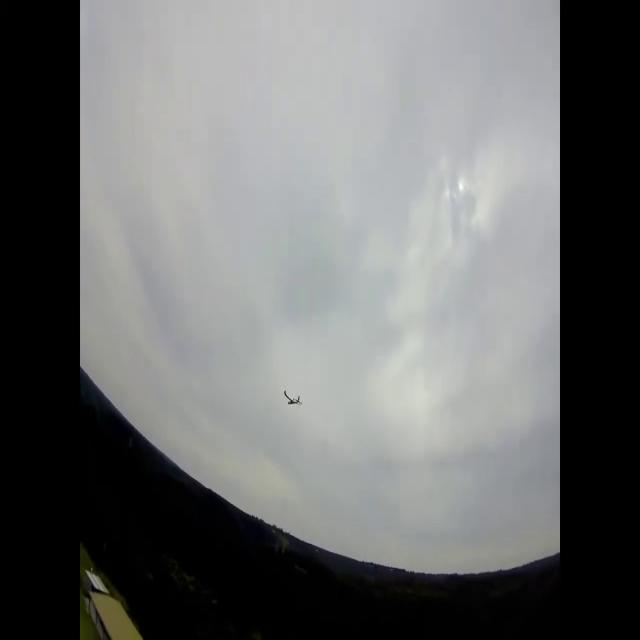iha: (283, 389, 302, 406)
